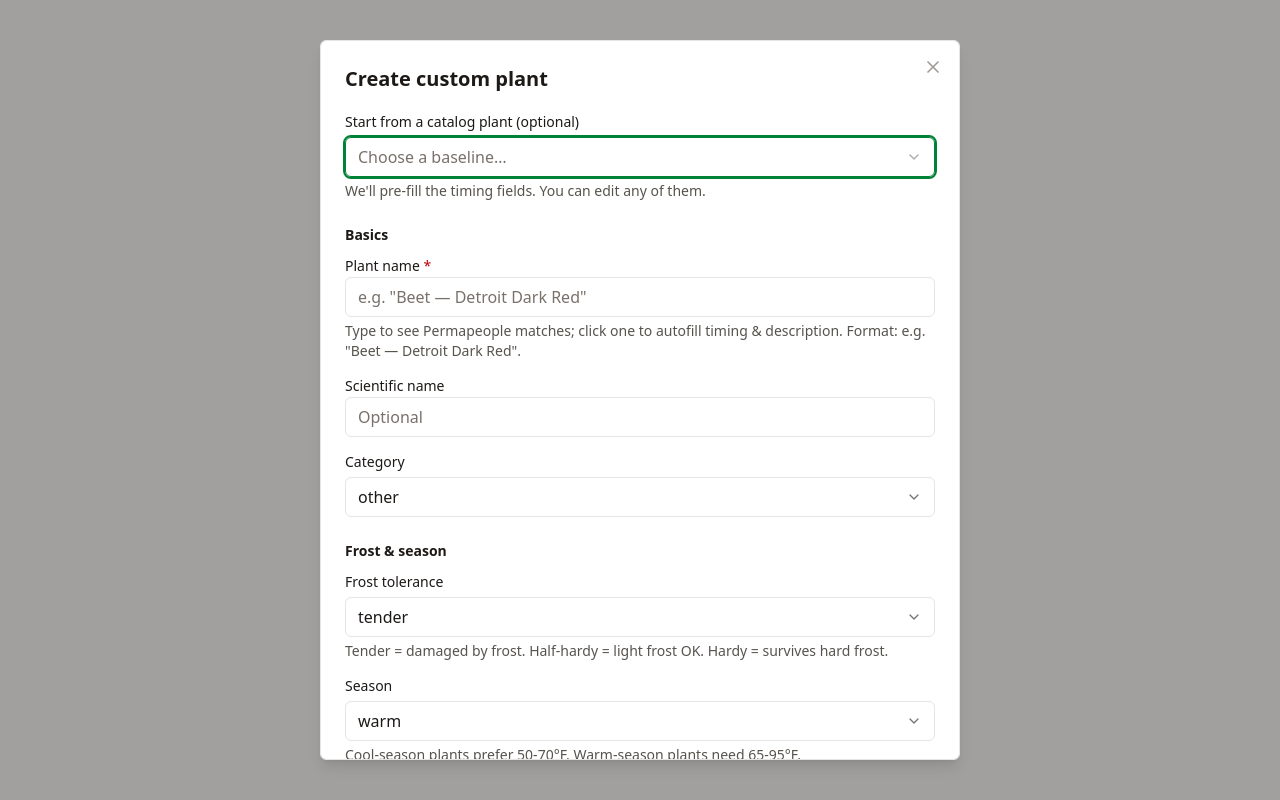
Test: CustomPlantModal › Permapeople fetch fail shows D-10 inline pill (replaces legacy multi-line block); Save stays enabled (CAT-07 + Plan 04-03 Task 4)
Type "Tomato" into the field labelled "Plant name *" at [640, 297], box [345,277,935,317]
(page scrolled)
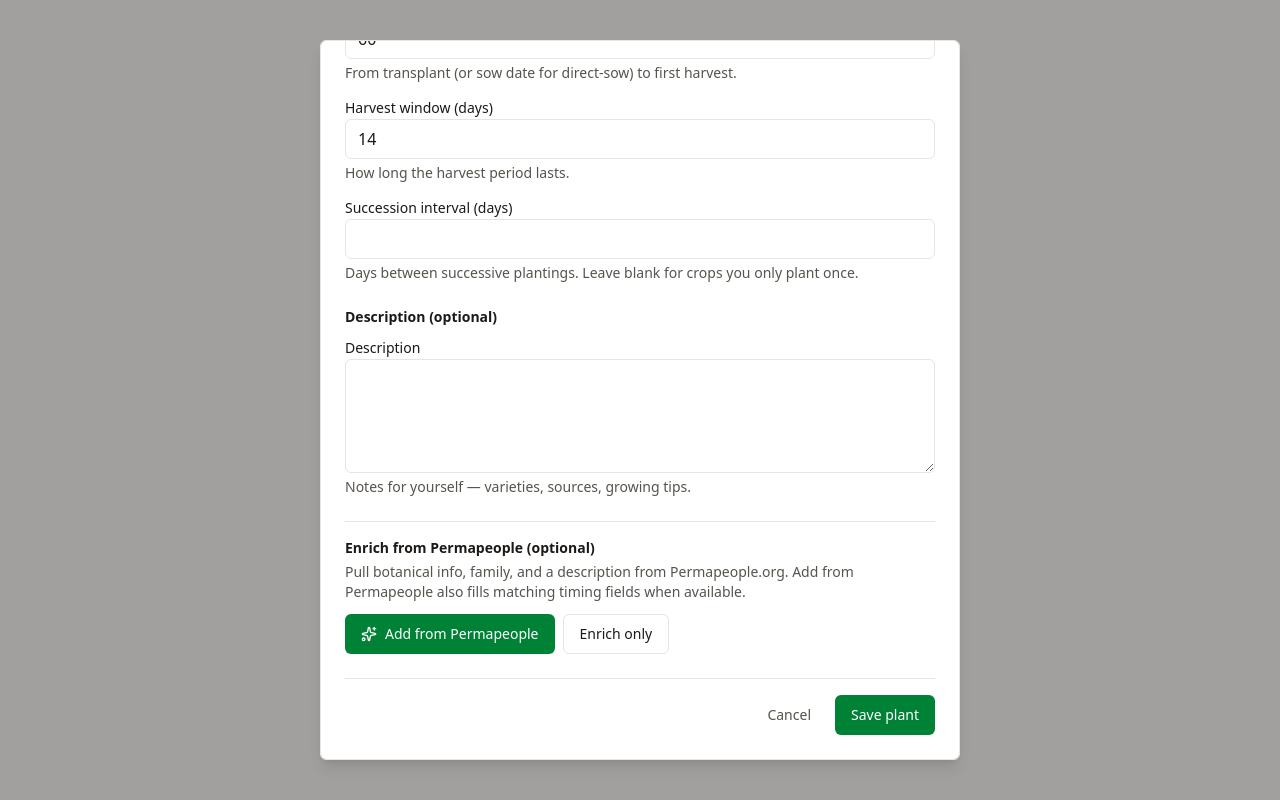
Expected: the button "Save plant" is enabled, [835,695,935,735]
Click the button "Enrich only" at [616, 634], box [562,614,669,654]
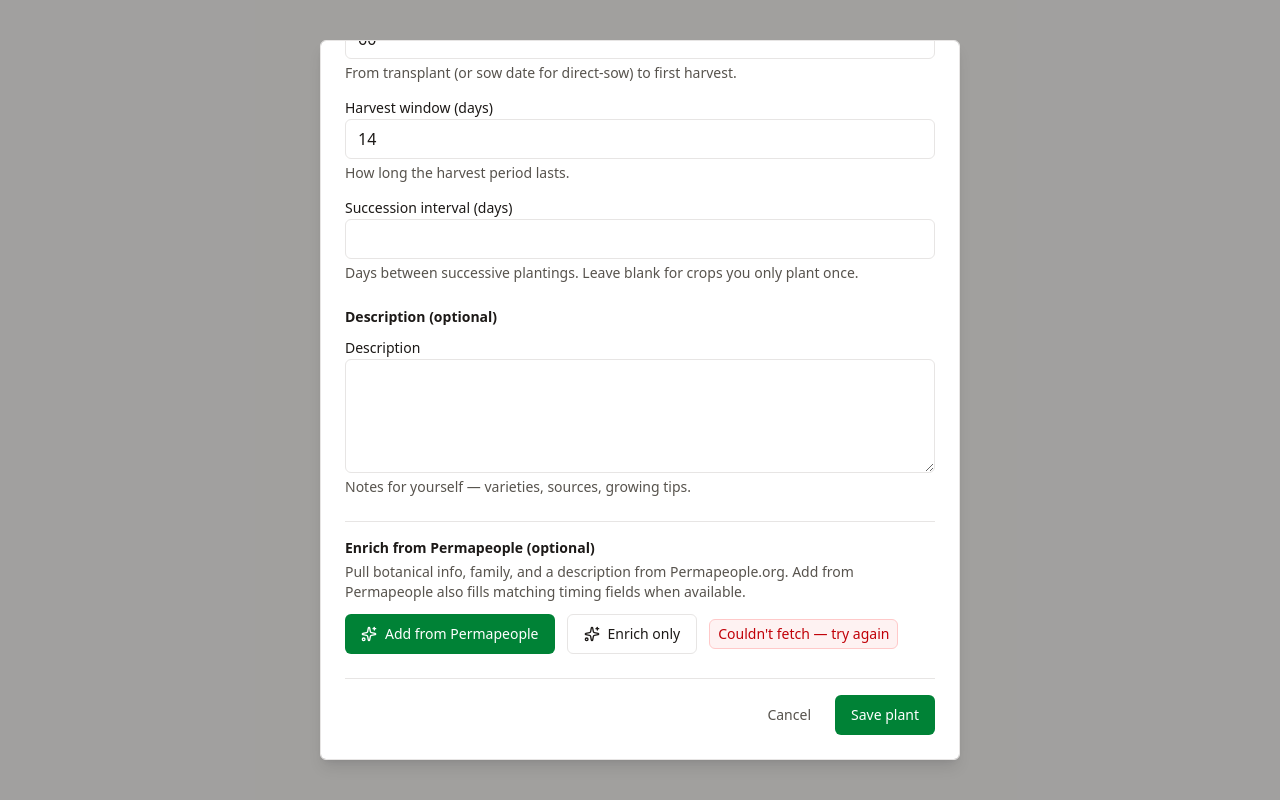
Expected: the button "Save plant" is enabled, [835,695,935,735]
Expected: the text "Couldn't fetch — try again" is shown, [709,619,898,649]
